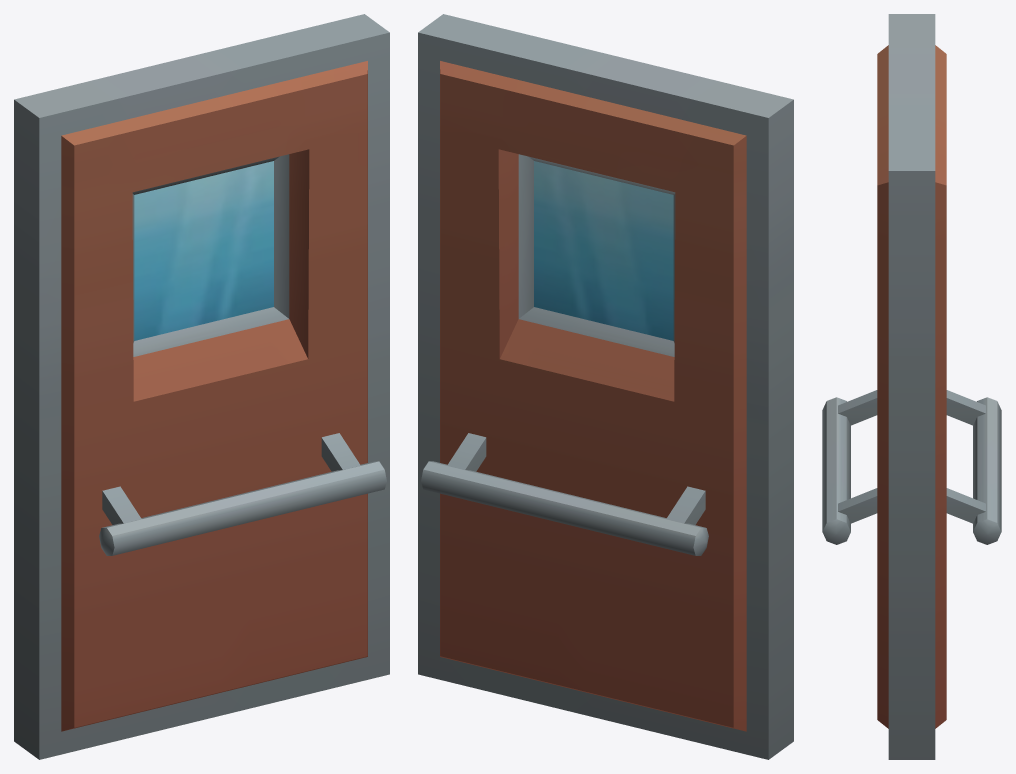
The model's file is kkr.door_b.glb.
3 renders of one model, left to right at view 1: azimuth 30°, elevation 25°; view 2: azimuth 150°, elevation 25°; view 3: azimuth 270°, elevation 25°, orthographic. The views are drawn at different scales.
Visible parts, largest first — view 1: door_B; view 2: door_B; view 3: door_B.
Part boxes in pixels (x1,y1,x2,y2): door_B: [14, 14, 389, 759]; door_B: [418, 14, 793, 759]; door_B: [822, 14, 1001, 759].
Size of the model in its own units: 1.19 by 2.09 by 0.5748.
Materials: 1 (1 with a texture image).
